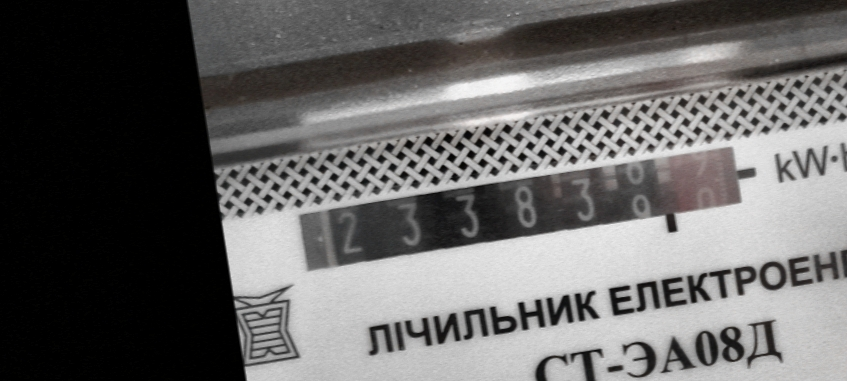0: (691, 182, 717, 211)
2: (333, 207, 364, 256)
3: (389, 196, 425, 249), (447, 188, 483, 241), (566, 173, 596, 222)
8: (506, 181, 540, 230), (620, 157, 647, 187)
9: (685, 146, 711, 179), (626, 189, 651, 221)
screen: (283, 131, 764, 293)
